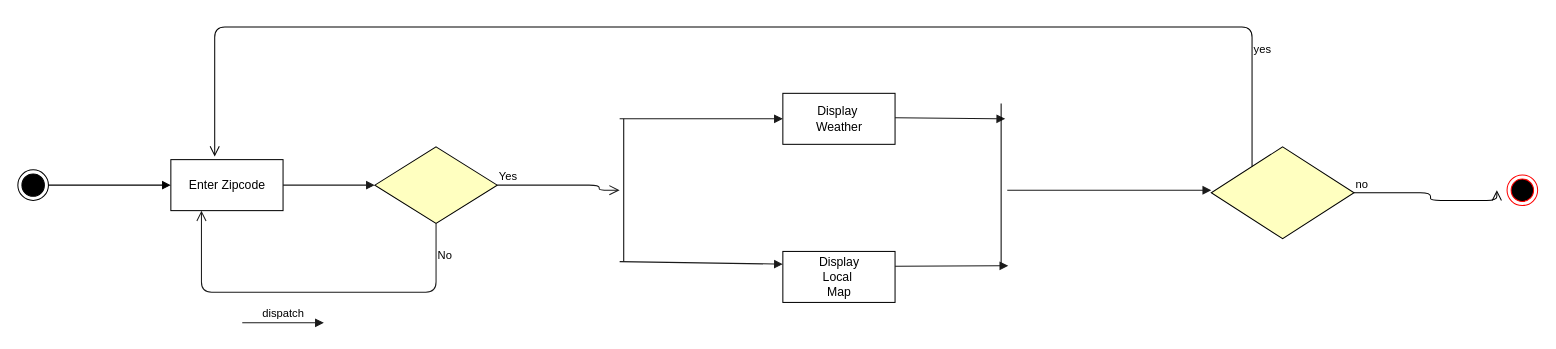
This 1556x349 diagram has some shape labels left out. Here are the shapes that lost their labels. From the top down, the centre of each, then its label:
At point (435, 184): "Zipcode Valid?".
At point (1282, 192): "Does User want to enter another code?".
